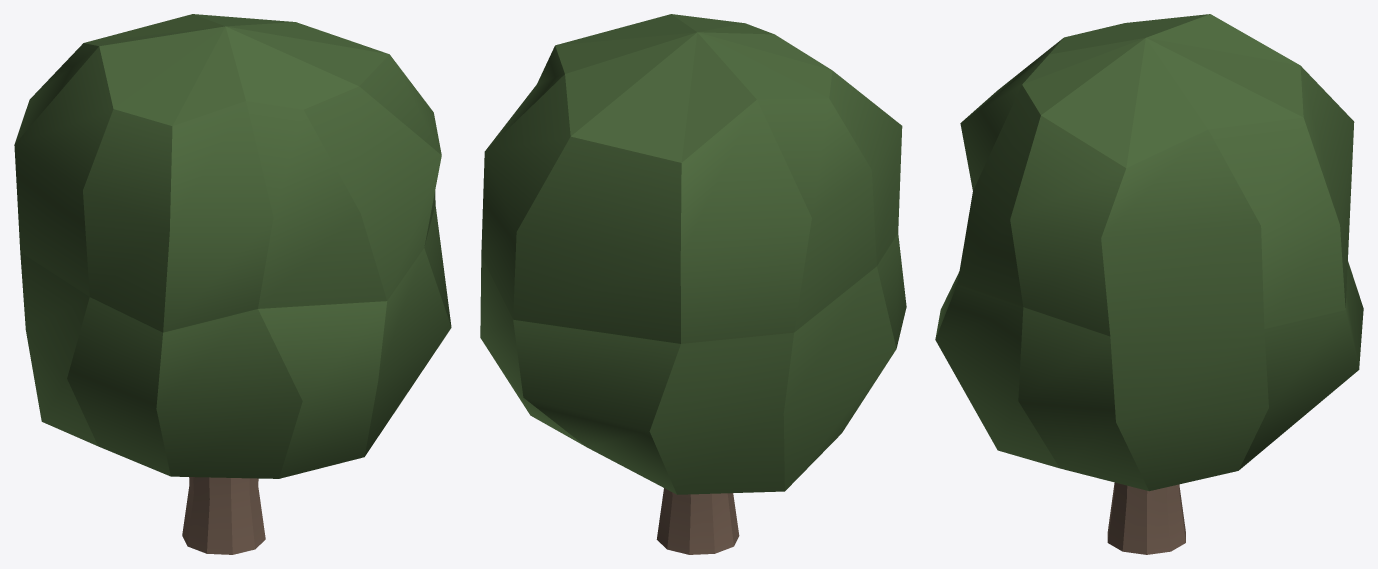
Rendered from tree05.fbx.
3 renders of one model, left to right at view 1: azimuth 30°, elevation 25°; view 2: azimuth 150°, elevation 25°; view 3: azimuth 270°, elevation 25°, orthographic. The views are drawn at different scales.
Visible parts, largest first — view 1: group2, pCylinder2; view 2: group2, pCylinder2; view 3: group2, pCylinder2.
Part boxes in pixels (bbox=[...]): group2: bbox=[14, 14, 451, 478]; pCylinder2: bbox=[182, 477, 265, 554]; group2: bbox=[480, 14, 906, 494]; pCylinder2: bbox=[656, 488, 739, 554]; group2: bbox=[935, 14, 1363, 491]; pCylinder2: bbox=[1107, 482, 1185, 554].
Size of the model in its own units: 39.86 by 51.64 by 40.07.
